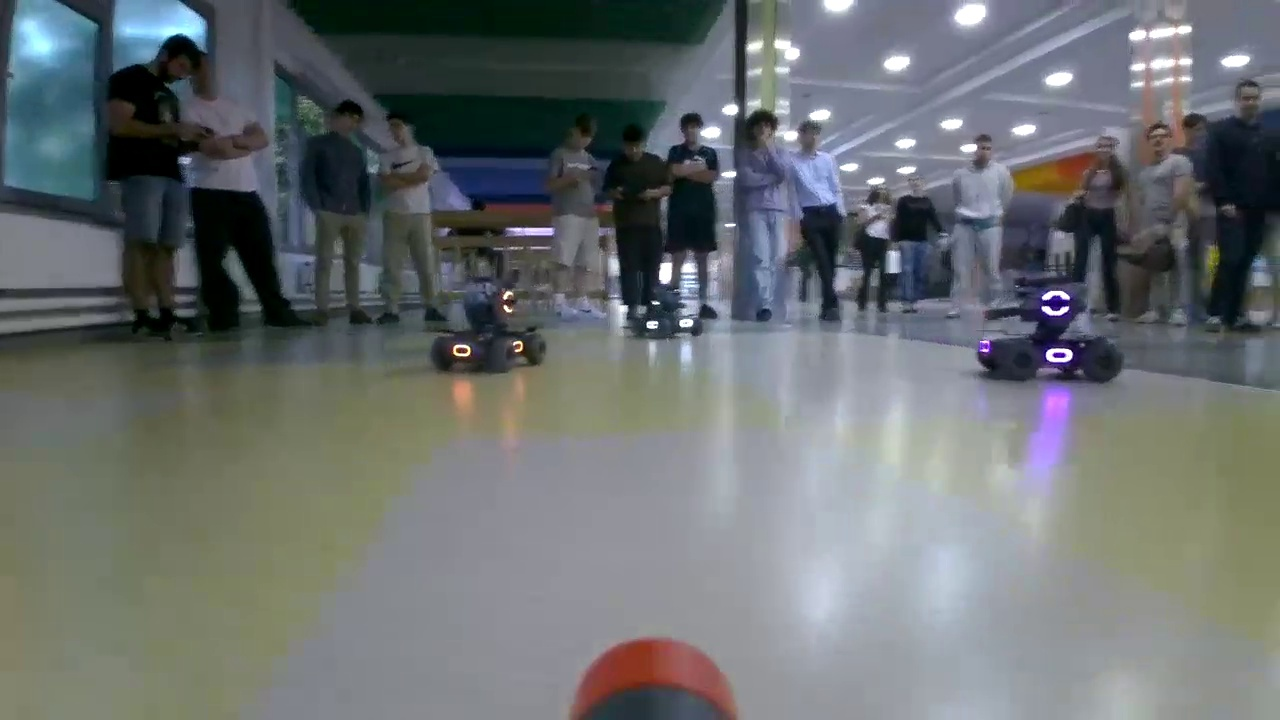robot: (978, 282, 1132, 392), (432, 288, 546, 372), (630, 296, 704, 338)
